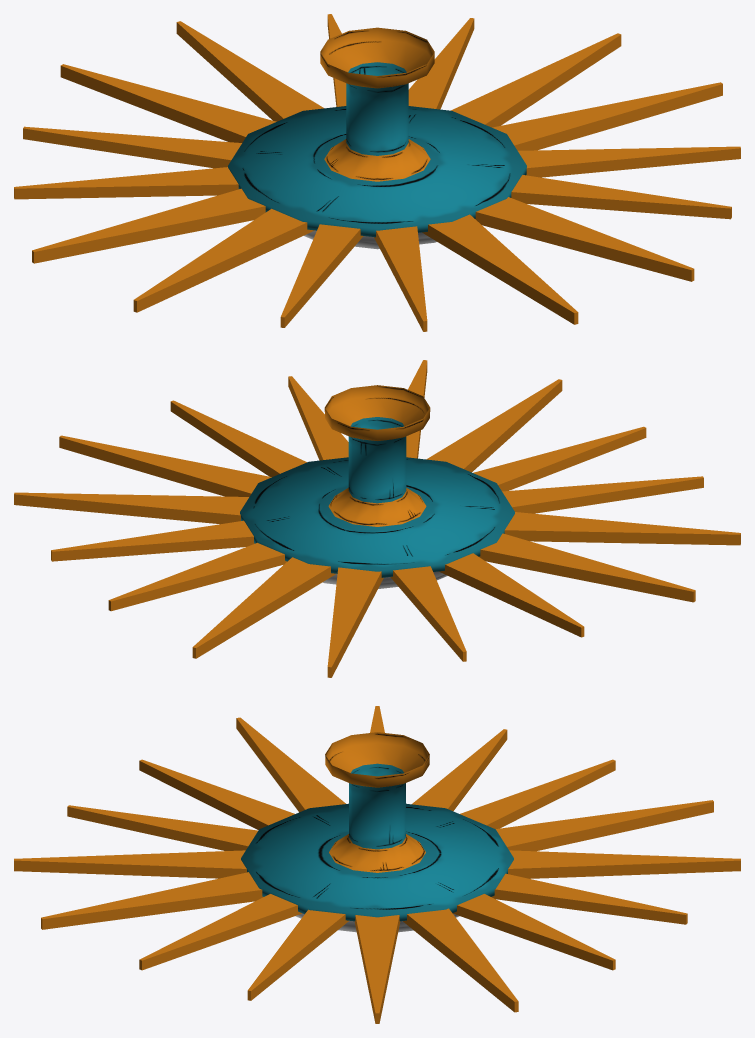
The model's file is Sunlight.fbx.
3 views of the same model, one above another, from view 1: azimuth 30°, elevation 25°; view 2: azimuth 150°, elevation 25°; view 3: azimuth 270°, elevation 25° (orthographic). The views are drawn at different scales.
Visible parts, largest first — view 1: sunlight_low; view 2: sunlight_low; view 3: sunlight_low.
Boxes of the visible parts, box(x1,y1,x2,y2) form: sunlight_low: box(14, 14, 740, 331); sunlight_low: box(14, 360, 740, 677); sunlight_low: box(14, 706, 740, 1023).
Bounding box in the file's own units: 625 × 140 × 625.
